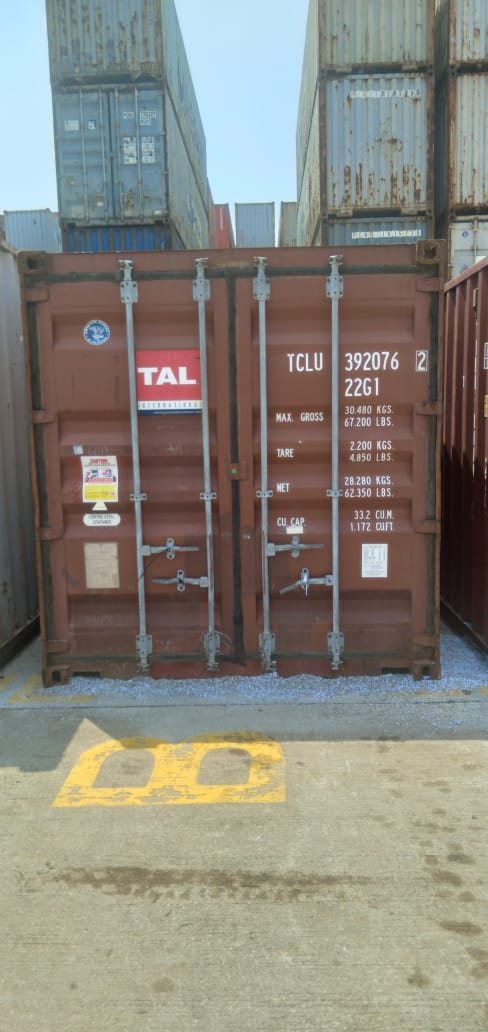minor: (20, 256, 78, 288)
